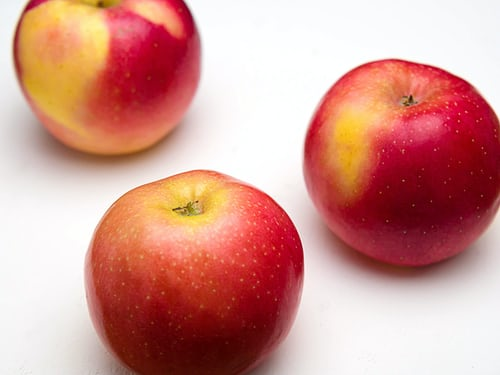apple: (78, 168, 306, 375), (305, 57, 499, 269), (11, 1, 203, 158)
